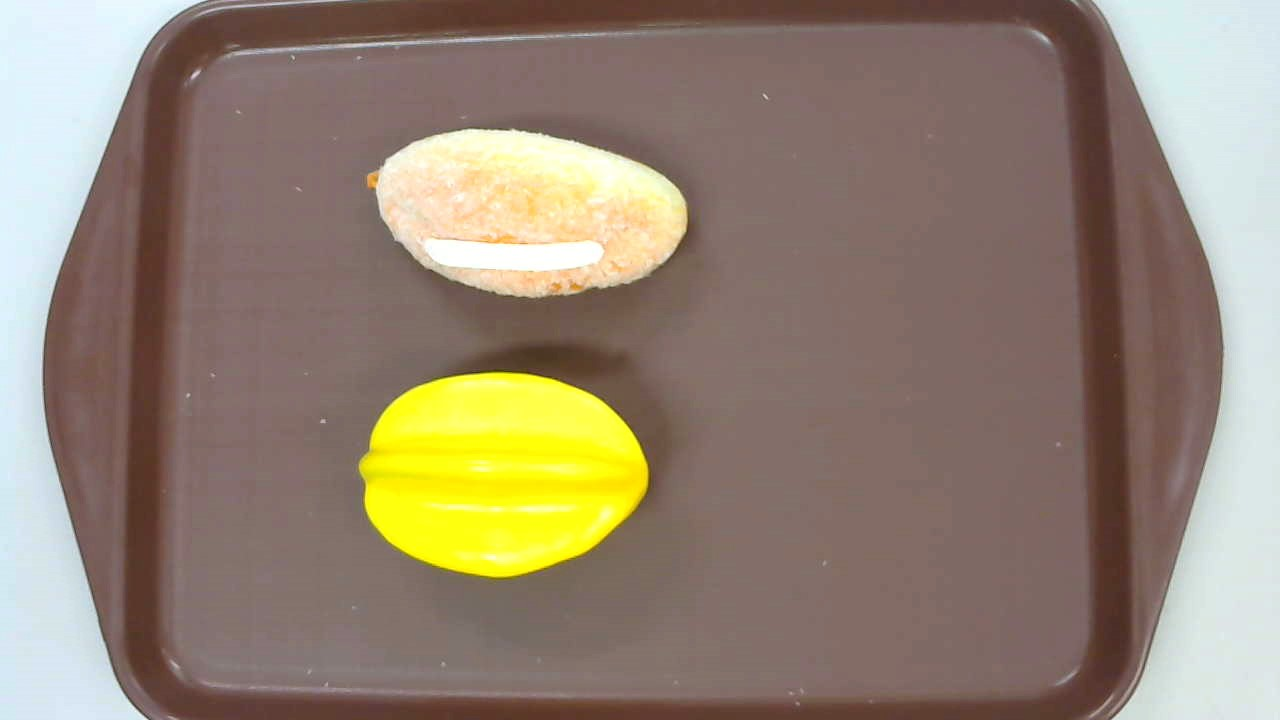coconut: (365, 126, 689, 299)
star fruit: (357, 371, 649, 578)
